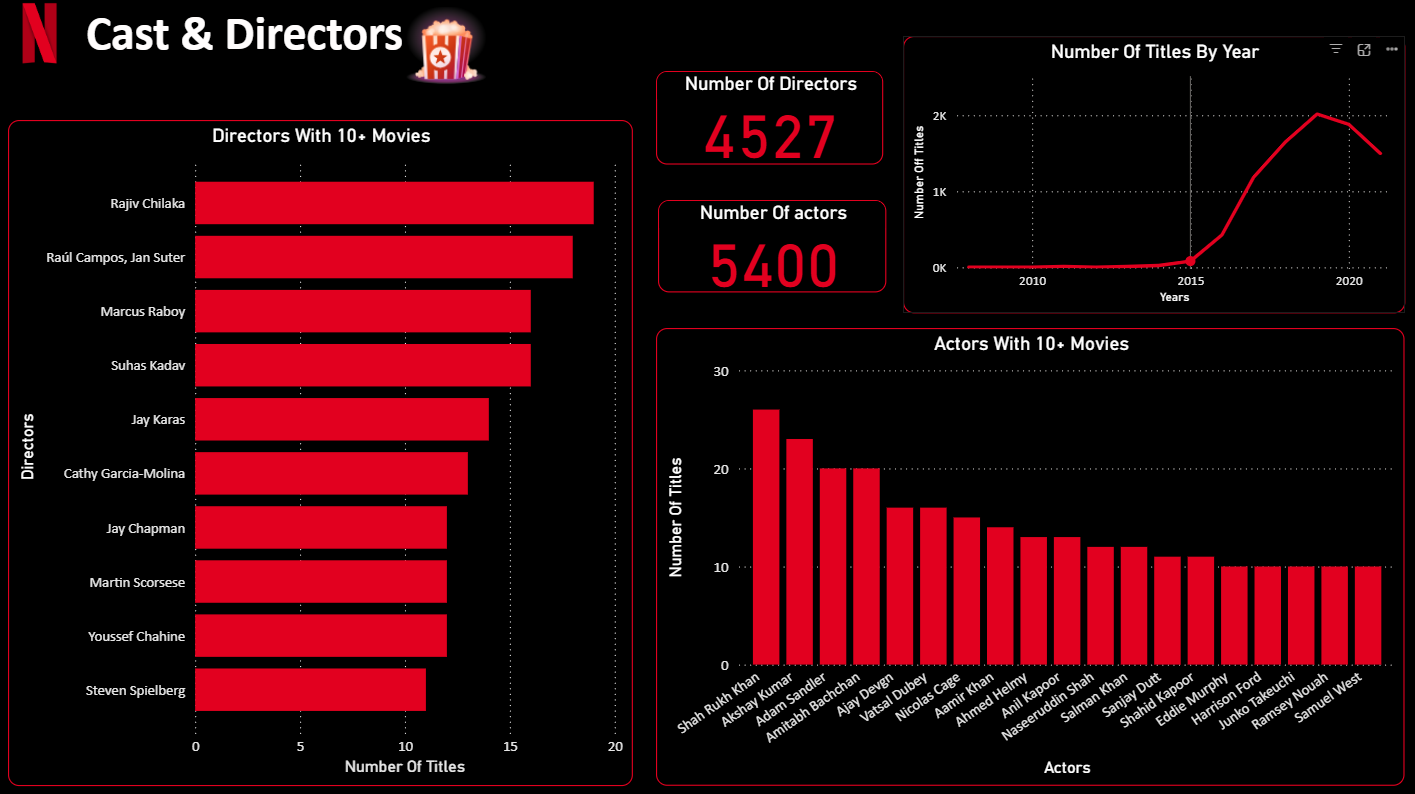

What the dashboard file says about the page in this screenshot:
{"tool":"powerbi","page":{"name":"Cast","canvas":[1280,720],"ordinal":3},"visuals":[{"type":"barChart","title":"Directors With 10+ Movies","fields":{"Category":["netflix_titles.director"],"Y":["Count(netflix_titles.title)"]},"box":[9.7,110,560.7,597.7],"z":0},{"type":"lineChart","title":"Number Of Titles By Year","fields":{"Category":["netflix_titles.date_added.Variation.Hiérarchie de dates.Année"],"Y":["CountNonNull(netflix_titles.title)"]},"box":[813.4,35,450.7,248.7],"z":1000},{"type":"textbox","box":[66.4,0.9,311.5,65.5],"z":2000},{"type":"card","title":"Number Of Directors","fields":{"Values":["Count(netflix_titles.director)"]},"box":[591.8,66.2,204.4,83.7],"z":3000},{"type":"columnChart","title":"Actors With 10+ Movies","fields":{"Category":["netflix_titles.cast.1"],"Y":["Count(netflix_titles.title)"]},"box":[591.6,297.2,672.4,411.2],"z":4000},{"type":"image","box":[0,0,76.9,66.2],"z":5000},{"type":"card","title":"Number Of actors","fields":{"Values":["Count(netflix_titles.cast.1)"]},"box":[593.8,182,205.4,82.7],"z":6000},{"type":"image","box":[361.1,0,83.7,89.6],"z":7000}]}

Visuals, with their boxes in screenshot pixels (x1, y1, x2, y2), scaled from the page's 1280x720 canvas onto the 1415x794 screenshot:
"Directors With 10+ Movies" barChart: l=11, t=121, r=631, b=780
"Number Of Titles By Year" lineChart: l=899, t=39, r=1397, b=313
textbox: l=73, t=1, r=418, b=73
"Number Of Directors" card: l=654, t=73, r=880, b=165
"Actors With 10+ Movies" columnChart: l=654, t=328, r=1397, b=781
image: l=0, t=0, r=85, b=73
"Number Of actors" card: l=656, t=201, r=883, b=292
image: l=399, t=0, r=492, b=99
